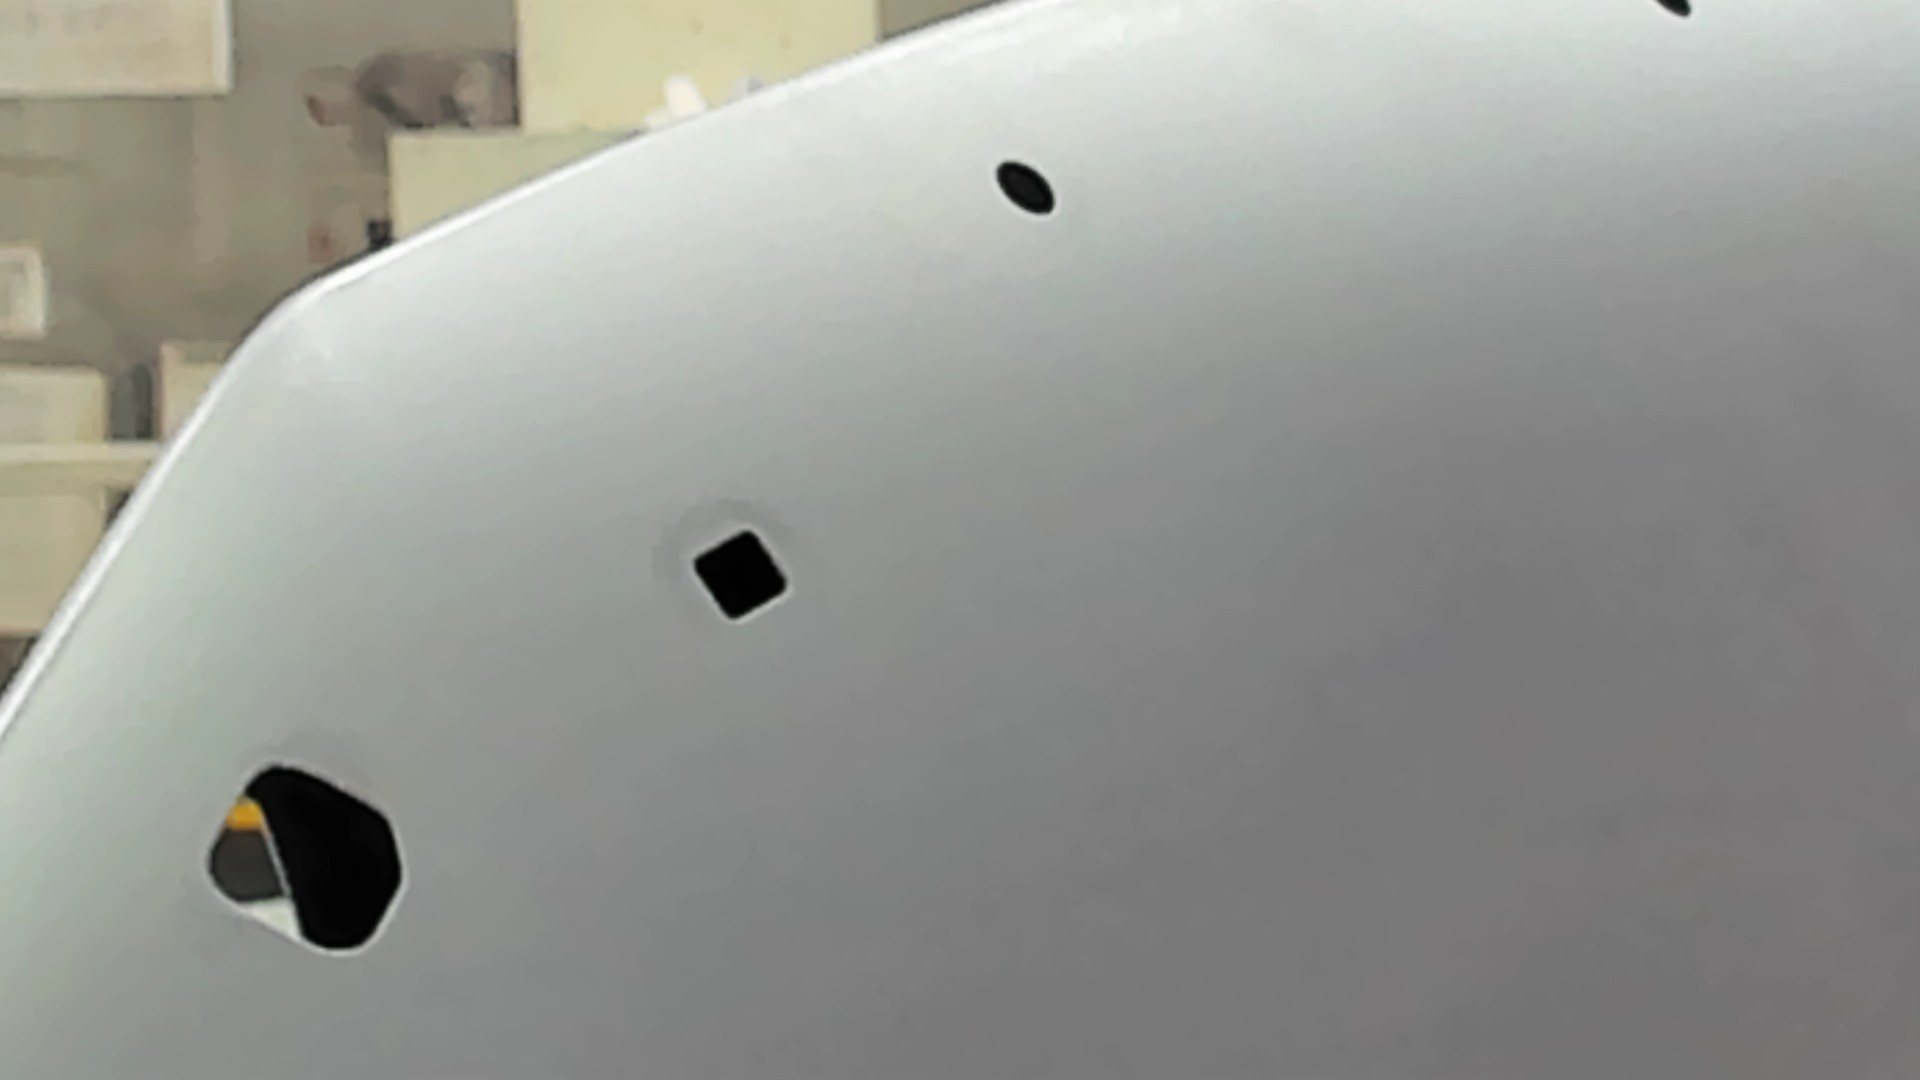chico: (996, 160, 1058, 218), (1651, 1, 1696, 18)
grande: (202, 760, 409, 956)
mediano: (688, 525, 793, 622)
